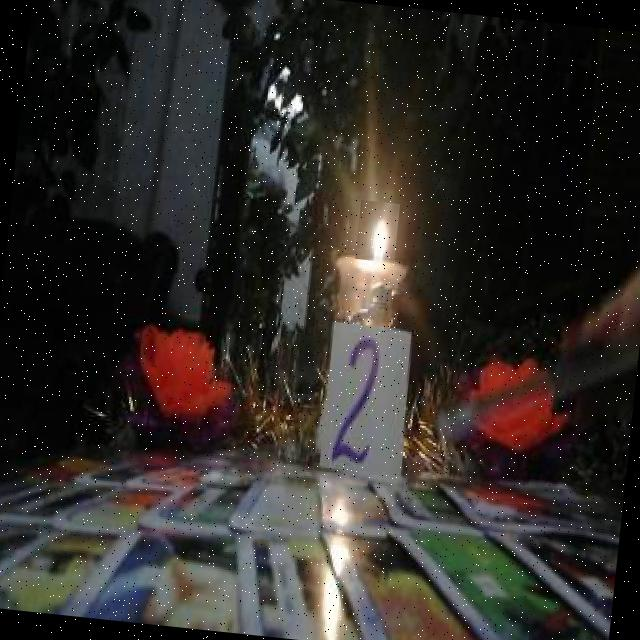fire: (354, 200, 400, 262)
